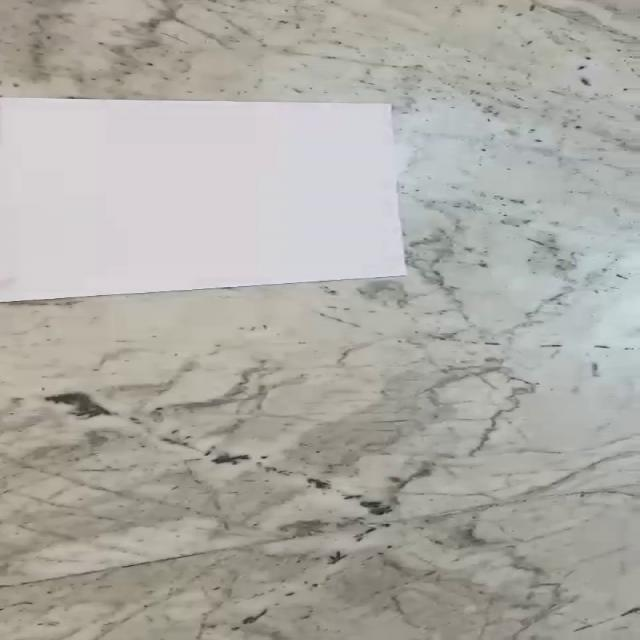road: (0, 98, 405, 303)
